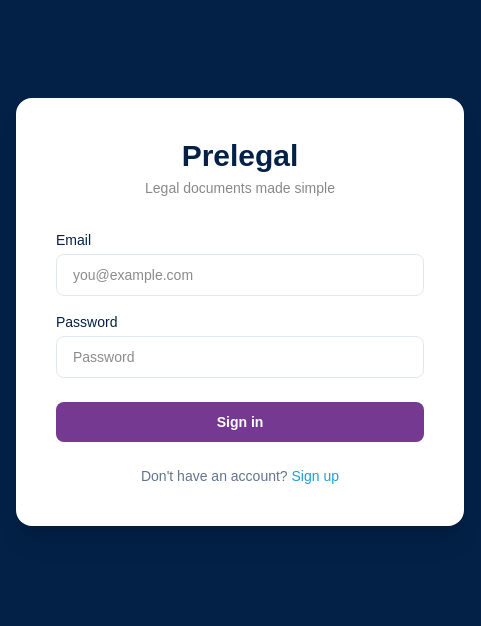
Test: LoginPage › toggles to sign-up mode showing name and confirm password
Click the button "Sign up": (315, 476) [292,466,339,486]
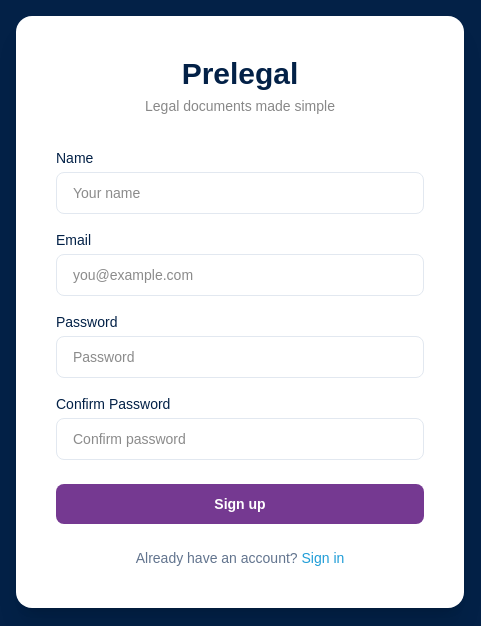
Now the field with placeholder "Your name" is shown, box [56,172,424,214]
Now the password field with placeholder "Confirm password" is shown, box [56,418,424,460]
Now the button "Sign up" is shown, box [56,484,424,524]
